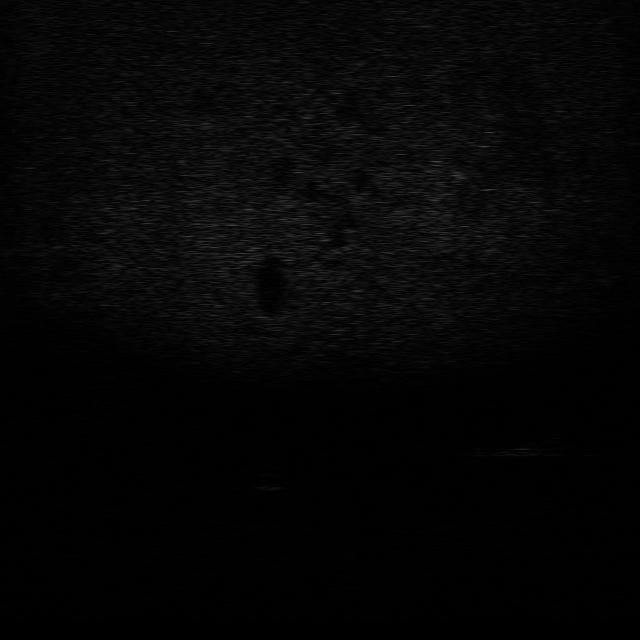ball: (250, 471, 291, 492)
human body: (461, 437, 574, 461)
